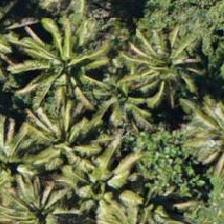coconut_tree: (108, 12, 198, 102), (1, 8, 91, 98), (23, 90, 113, 180), (123, 46, 213, 136), (167, 91, 223, 181)
